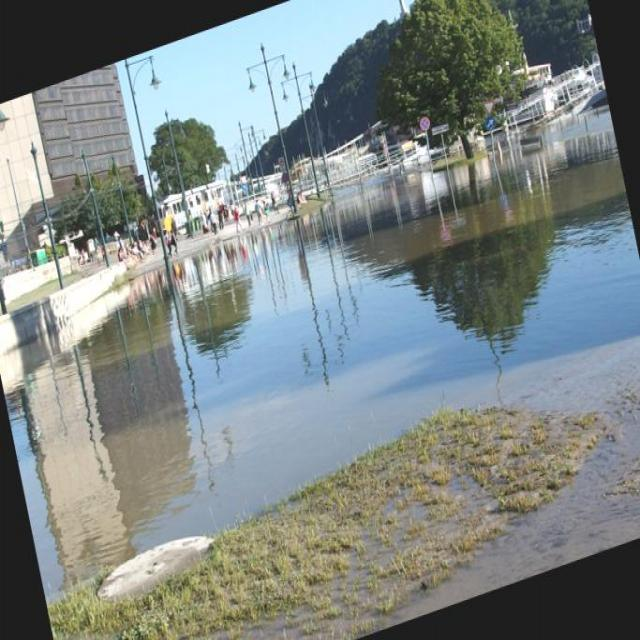flood: (0, 90, 639, 601)
